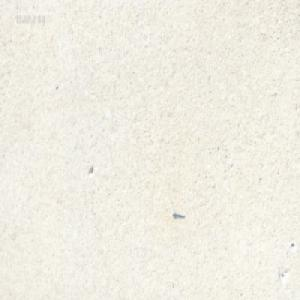Nail: (172, 210, 185, 218)
